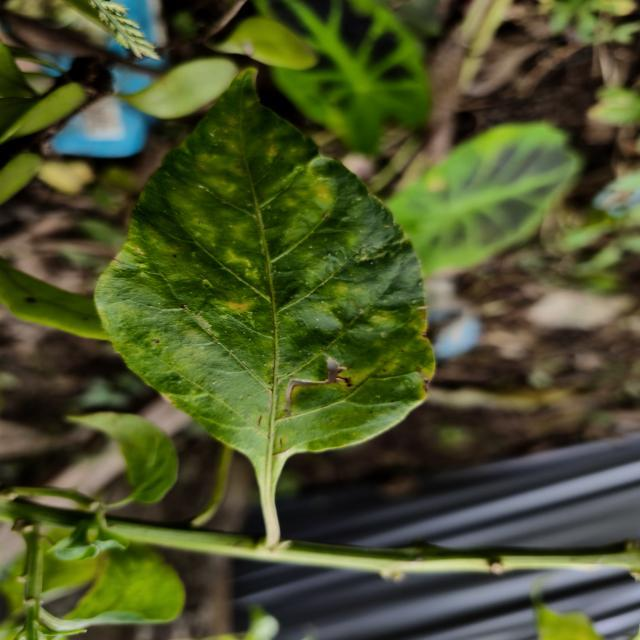Virus Kuning: (91, 66, 437, 470)
